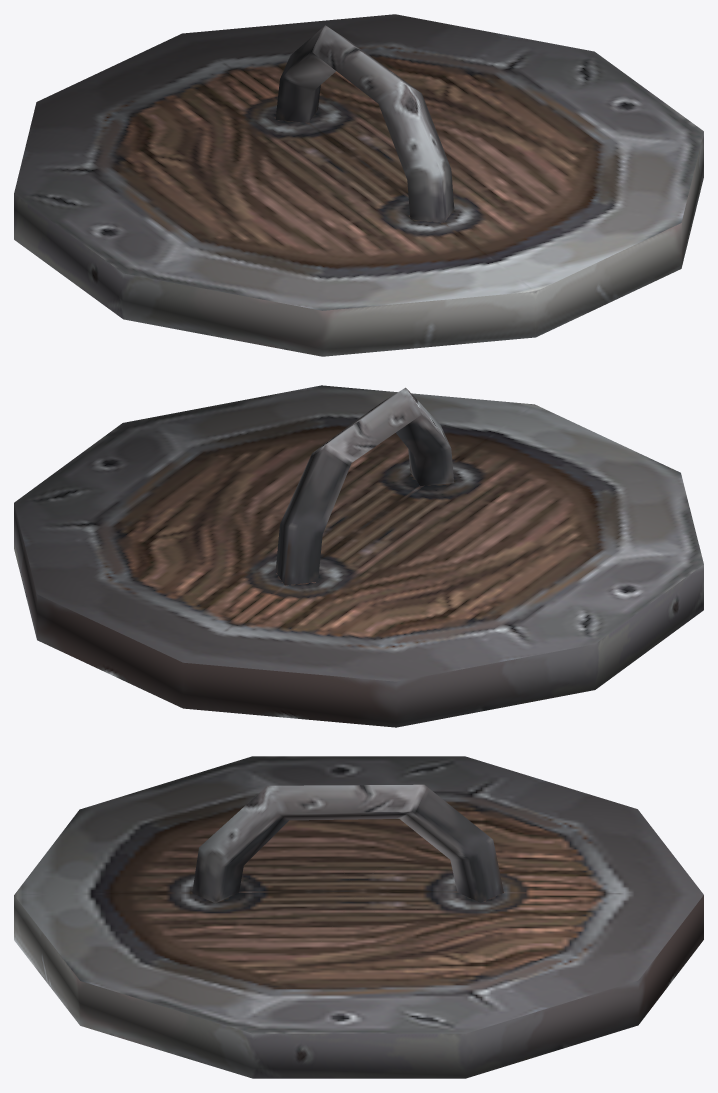
The model's file is weapon21002.FBX.
3 renders of one model, top to bottom at view 1: azimuth 30°, elevation 25°; view 2: azimuth 150°, elevation 25°; view 3: azimuth 270°, elevation 25°, orthographic. The views are drawn at different scales.
Parts seen in each view (by area): view 1: Wep_Dun_2; view 2: Wep_Dun_2; view 3: Wep_Dun_2.
Part boxes in pixels (bbox=[...]): Wep_Dun_2: bbox=[14, 14, 703, 356]; Wep_Dun_2: bbox=[14, 385, 703, 727]; Wep_Dun_2: bbox=[14, 756, 703, 1078].
Size of the model in its own units: 28.91 by 9.71 by 30.38.
Materials: 1 (1 with a texture image).
